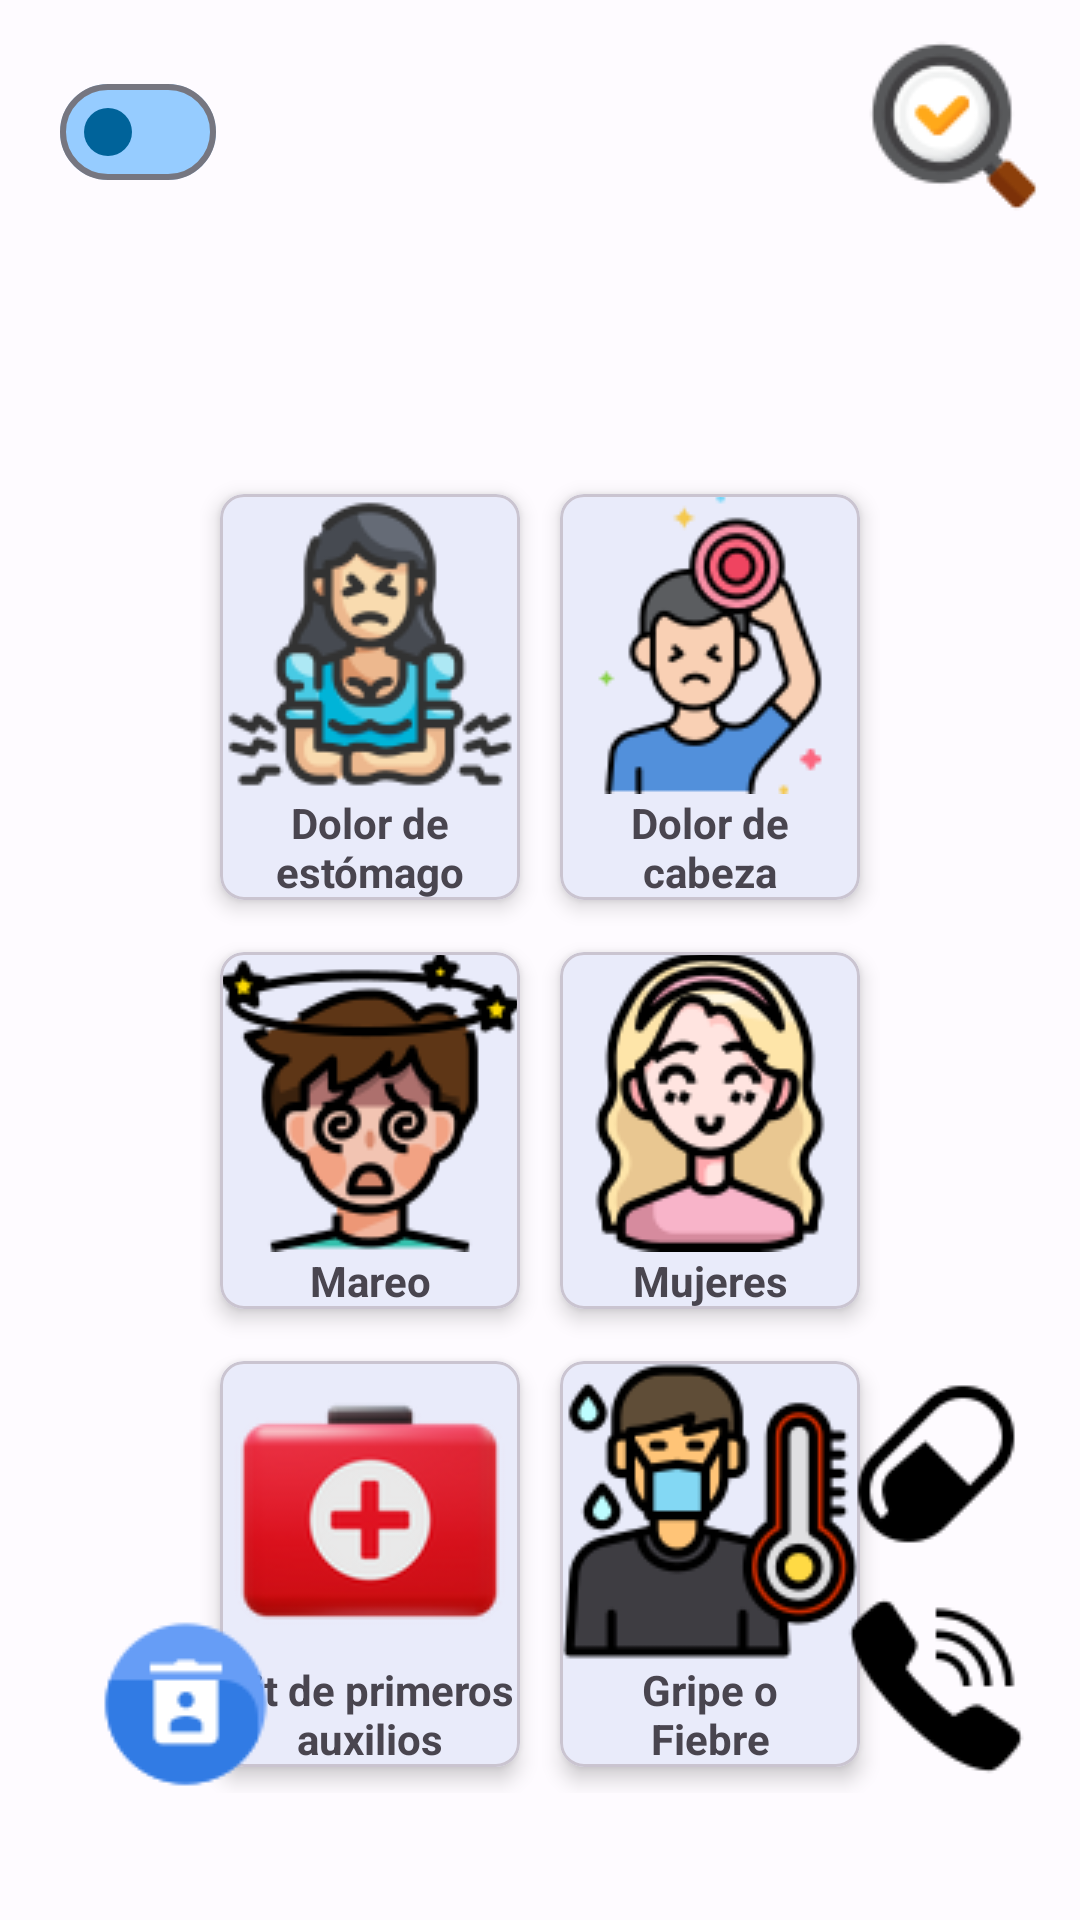

Named icons in this screenshot (1080px×1920px) and their bounding boxes, (x1, y1, x2, y2):
Botón de búsqueda: (872, 44, 1036, 208)
Botón de pastilla: (840, 1368, 1015, 1560)
Botón de teléfono: (840, 1590, 1022, 1778)
